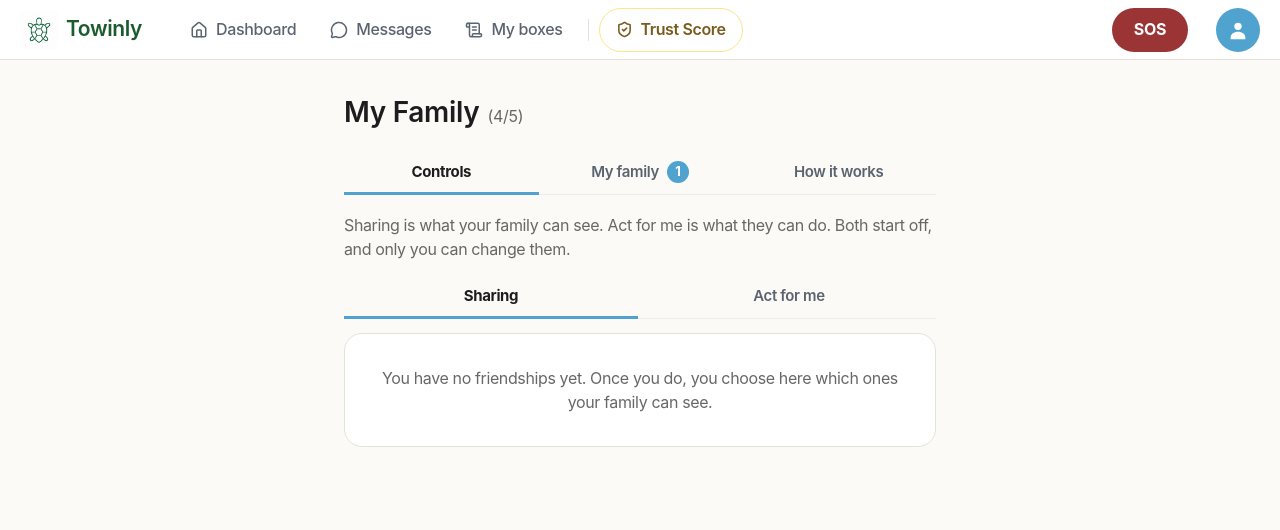
MyFamily › states the plain-words promises and the trust line
# The promises live on the How it works tab (user call 2026-07-21).
Click the tab "How it works": (839, 173) [741,151,936,195]
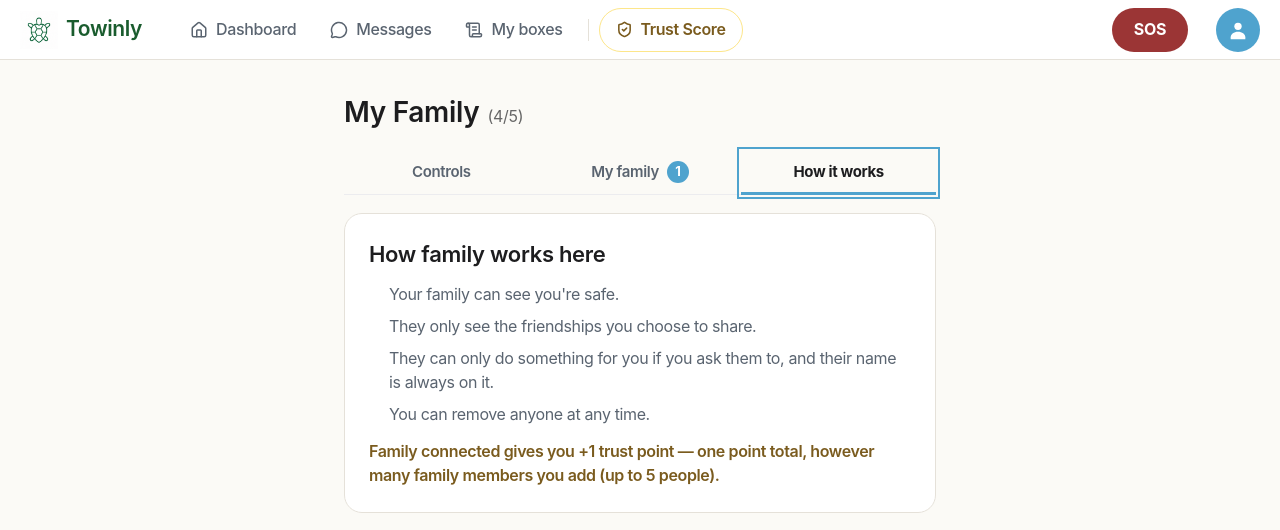
Expected: the list item "Your family can see you're safe." is shown, [389,284,619,304]
Expected: the list item "They only see the friendships you choose to share." is shown, [389,316,756,336]
Expected: the list item "only do something for you if you ask them to" is shown, [389,348,896,392]
